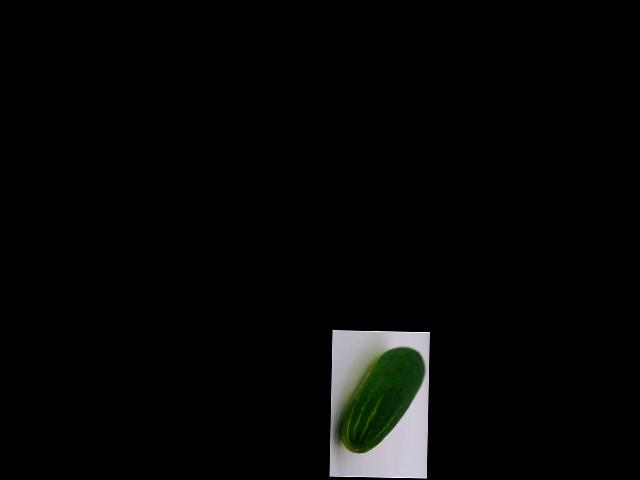cucumber: (340, 345, 424, 454)
